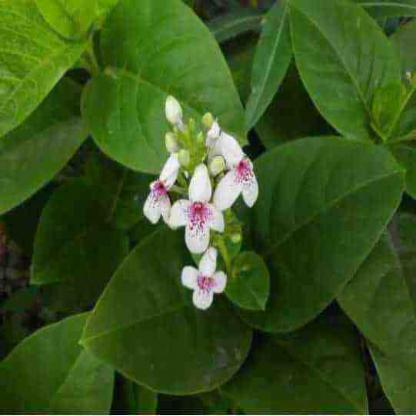Melati: (129, 96, 281, 326)
